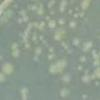white: (1, 63, 14, 73), (19, 87, 29, 100), (55, 60, 65, 73), (59, 88, 71, 98), (80, 0, 90, 10), (10, 40, 19, 51), (81, 76, 92, 85), (0, 72, 7, 85), (12, 50, 22, 59), (83, 41, 93, 50), (89, 48, 98, 58), (18, 31, 29, 39), (62, 73, 70, 84), (49, 65, 58, 74), (17, 10, 27, 18), (34, 47, 42, 56), (24, 45, 33, 53), (48, 20, 56, 29), (5, 9, 14, 17), (46, 53, 56, 60), (61, 55, 68, 65), (71, 37, 79, 45), (29, 5, 38, 12), (57, 18, 65, 25), (68, 22, 76, 29), (33, 20, 40, 28), (47, 2, 55, 9), (73, 5, 81, 12), (54, 34, 61, 42), (30, 33, 37, 40), (77, 64, 84, 71), (65, 48, 72, 55), (40, 38, 48, 44), (18, 38, 26, 44), (72, 13, 80, 19), (32, 55, 38, 62), (33, 40, 40, 46), (23, 16, 29, 23), (1, 16, 7, 23), (65, 9, 72, 15), (78, 10, 84, 17), (94, 79, 100, 86), (81, 94, 88, 100), (48, 47, 54, 53), (25, 27, 31, 33), (14, 4, 20, 10), (37, 2, 43, 8), (61, 41, 67, 47), (44, 44, 51, 49), (28, 22, 33, 29), (91, 59, 96, 66), (36, 25, 42, 30), (38, 9, 43, 15), (64, 44, 69, 50), (18, 18, 22, 25), (82, 44, 86, 51), (38, 34, 43, 39), (40, 21, 45, 26), (49, 10, 54, 15), (59, 7, 64, 12), (84, 70, 89, 75), (46, 15, 50, 20), (80, 56, 84, 61)
